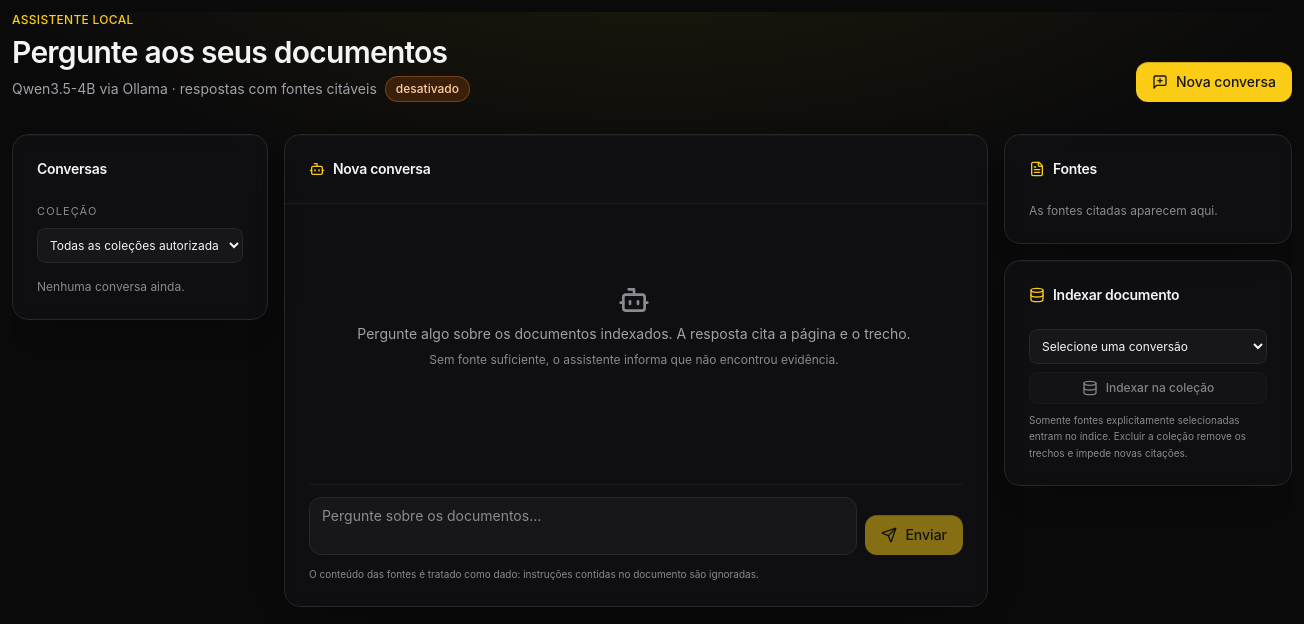
AssistantPage streaming › aborts the stream of a conversation deleted while it streams
The width and height of the screenshot is (1304, 624).
(page scrolled)
Type "pergunta A" into the text box with placeholder "Pergunte sobre os documentos…" at (583, 526), box [309,497,857,555]
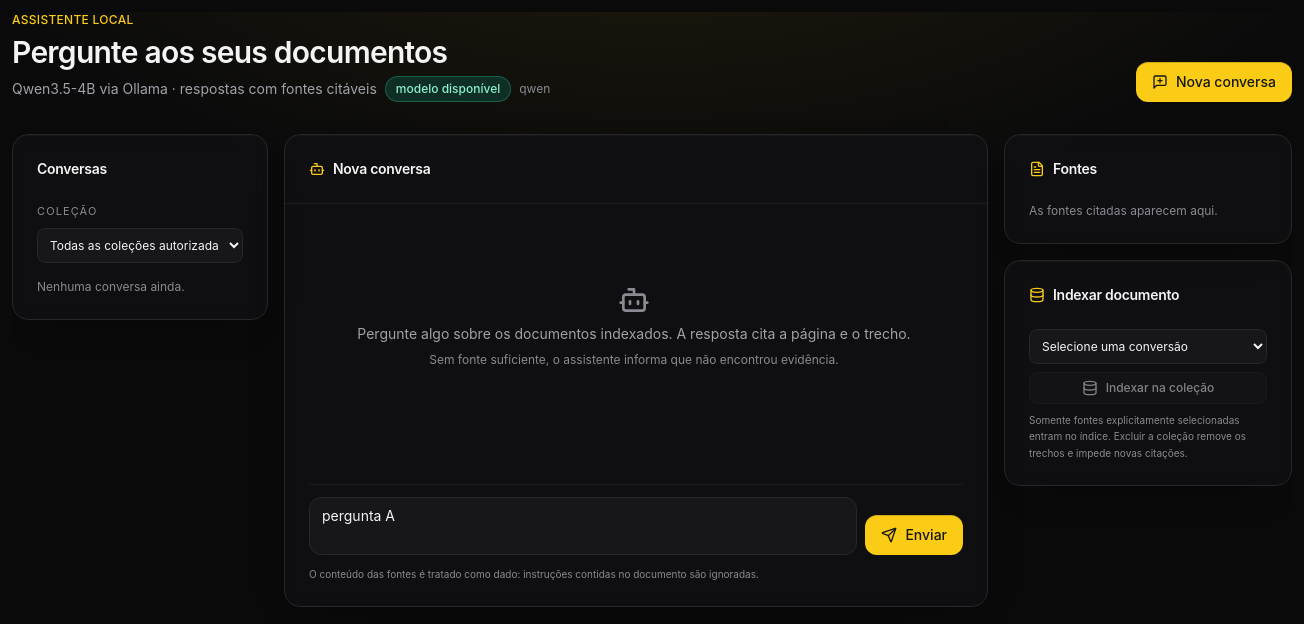
Click the button "Enviar" at (914, 535), box [865,515,963,555]
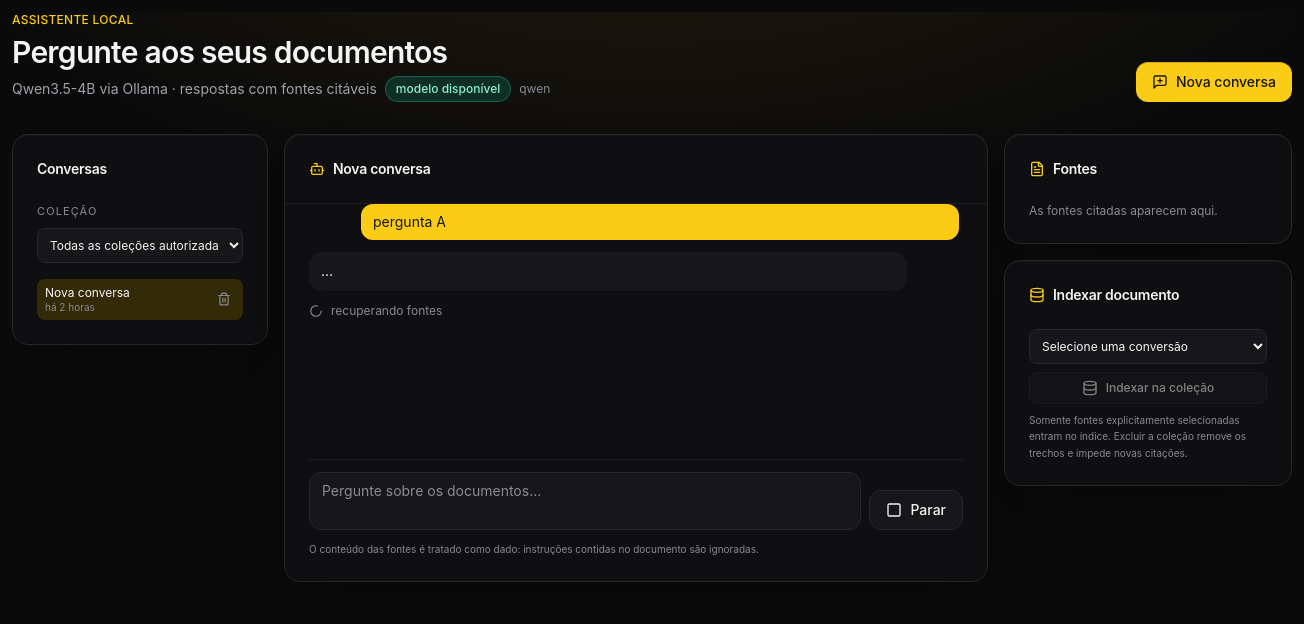
Click the button named "excluir conversa" at (224, 299), box [213,288,235,310]
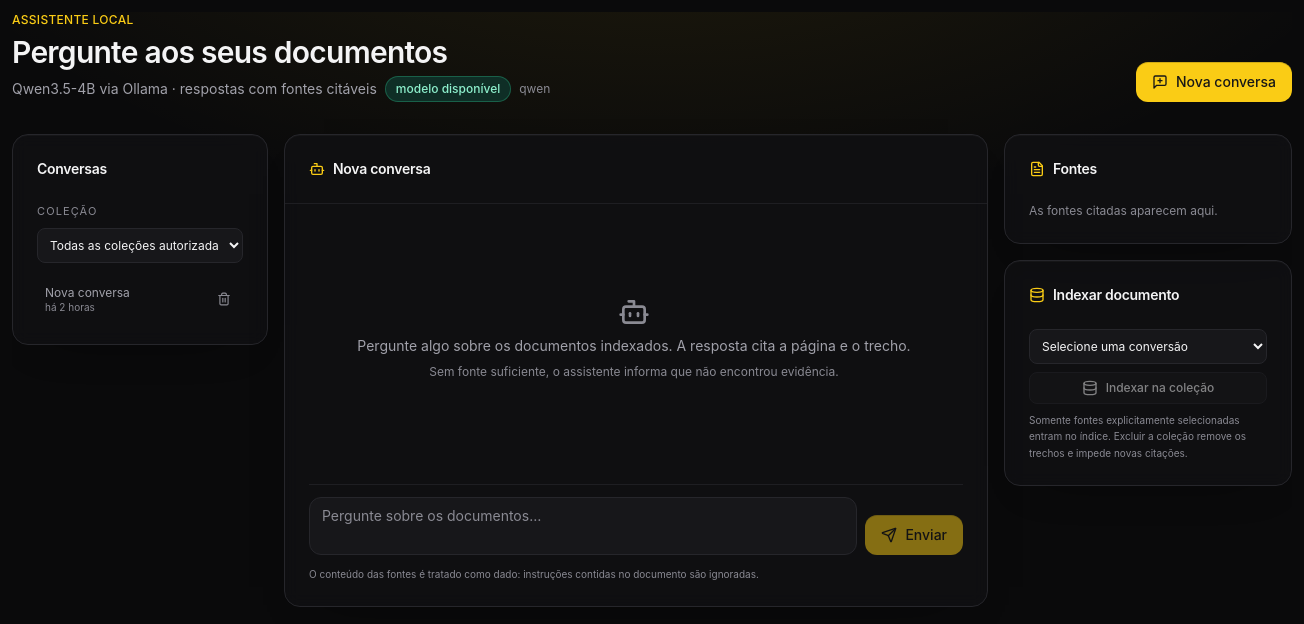
Expected: the button "Parar" is gone
